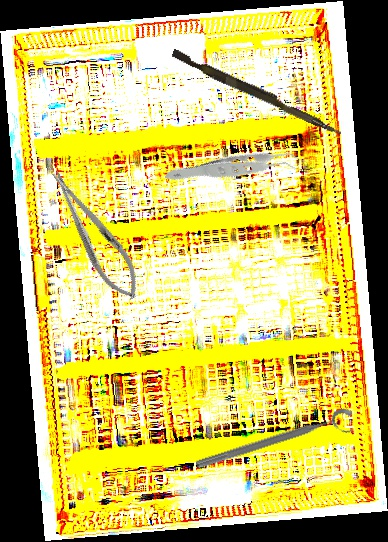Fixation Ring: (193, 406, 359, 482)
Needle Holder: (40, 162, 150, 308)
Pusher: (169, 48, 345, 137)
Tissue Forceps: (163, 109, 310, 231)
